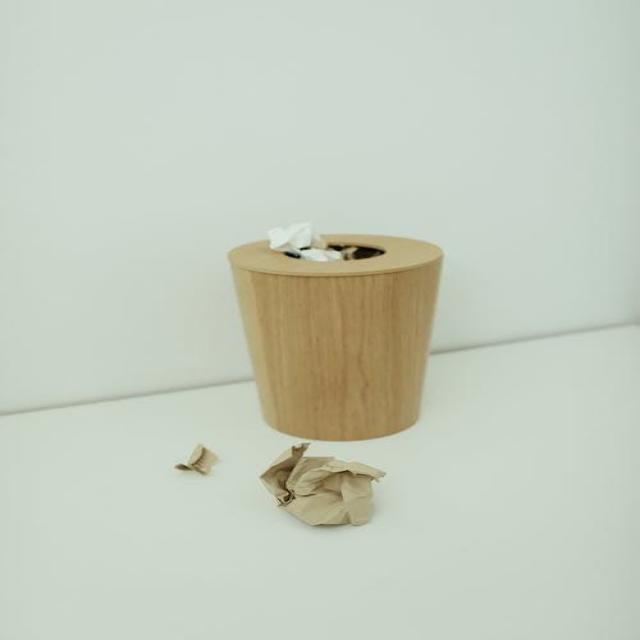paper: (257, 432, 397, 534), (260, 218, 352, 264), (172, 439, 236, 483)
